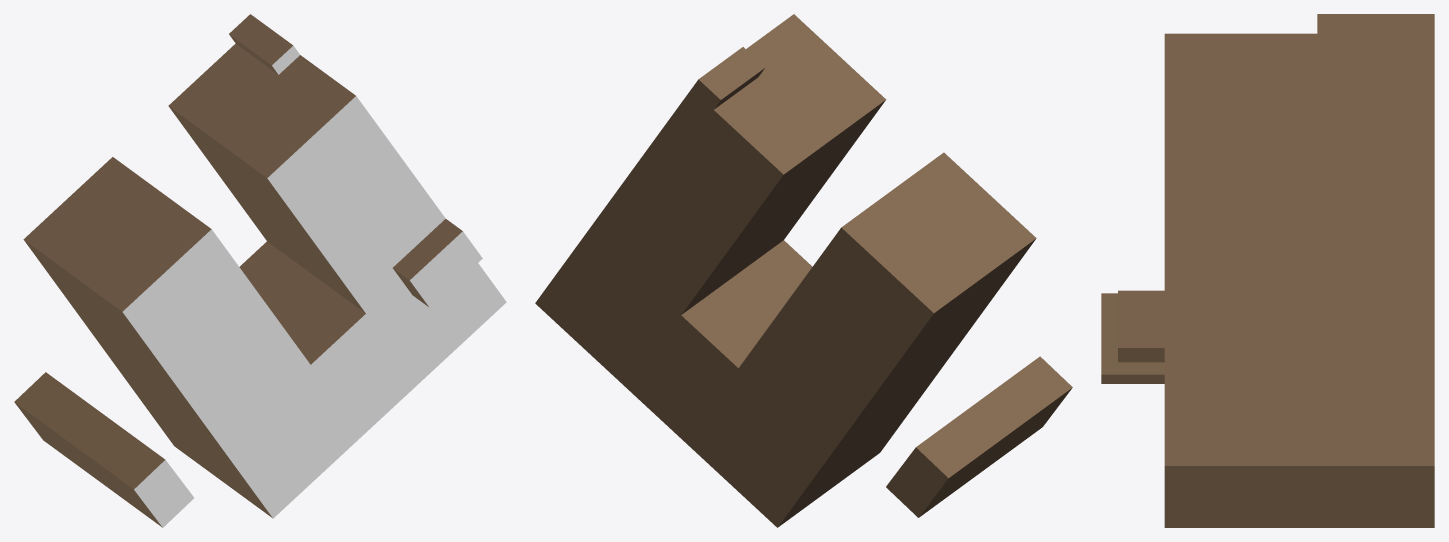
3 views of the same model, side by side, from view 1: azimuth 30°, elevation 25°; view 2: azimuth 150°, elevation 25°; view 3: azimuth 270°, elevation 25° (orthographic). The views are drawn at different scales.
Visible parts, largest first — view 1: City_2317250; view 2: City_2317250; view 3: City_2317250.
Part boxes in pixels (x1,y1,x2,y2): City_2317250: (14,14,506,527); City_2317250: (535,14,1072,527); City_2317250: (1101,14,1434,527).
Bounding box in the file's own units: 3311 × 3305 × 1769.
